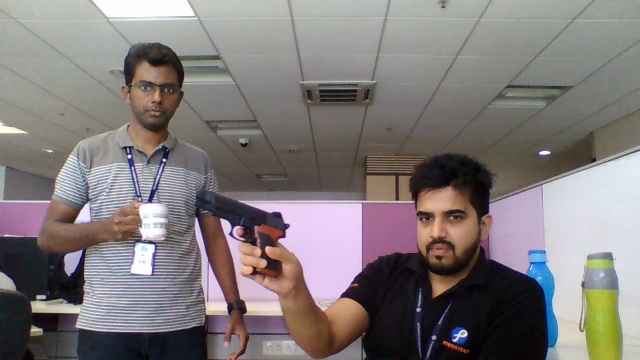gun: (194, 186, 289, 241)
